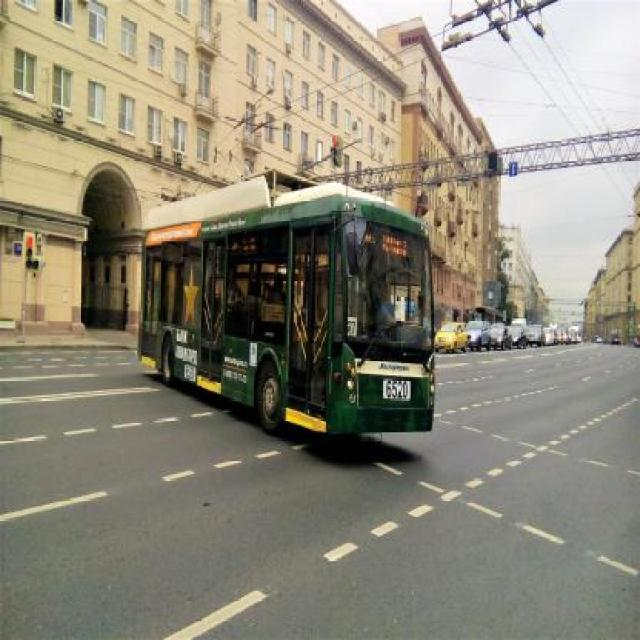bus: (133, 188, 433, 432)
